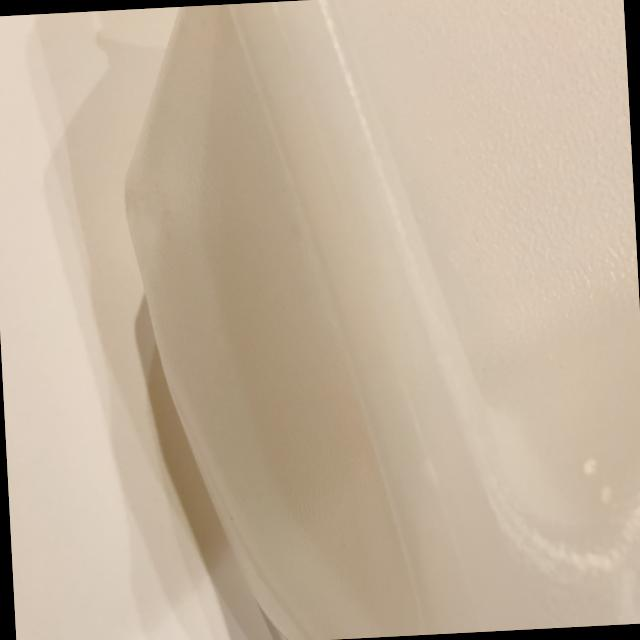Plastic: (99, 0, 640, 640)
